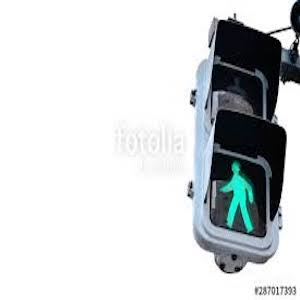green: (215, 156, 258, 233)
